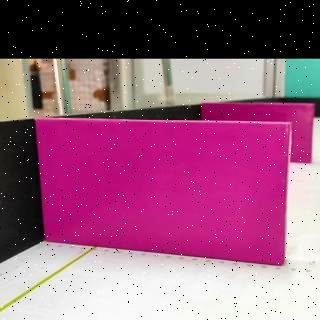xparking: (41, 119, 286, 264), (295, 104, 312, 164)
